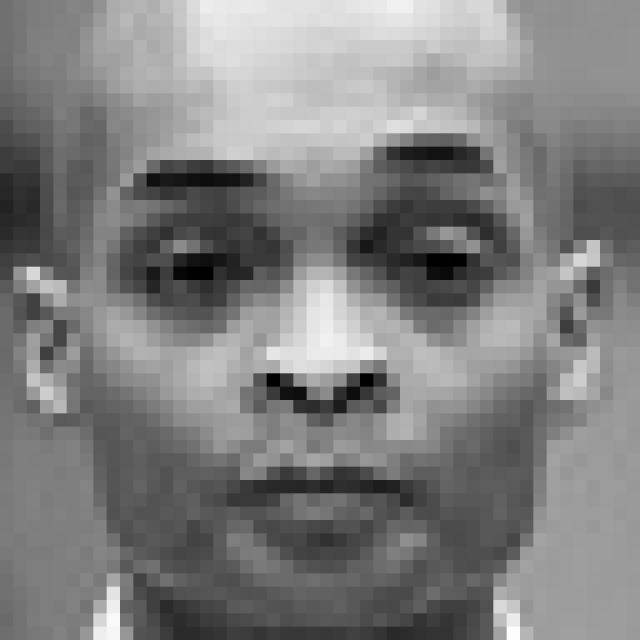neutral: (121, 127, 528, 564)
